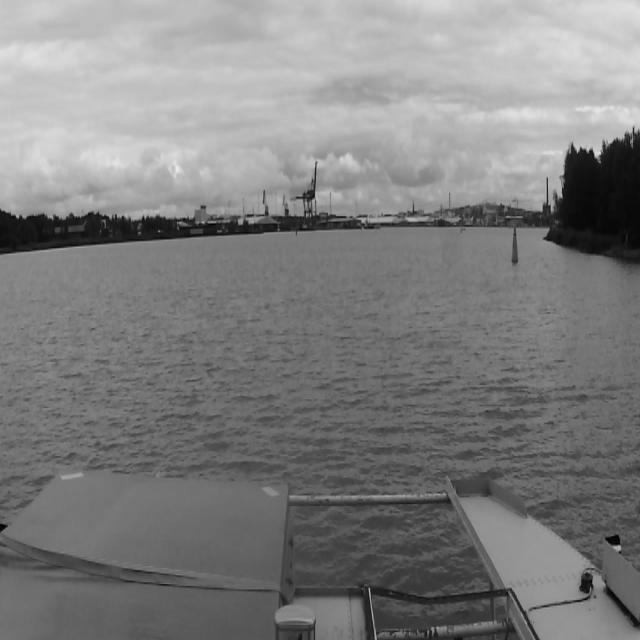buoy: (509, 224, 521, 269)
